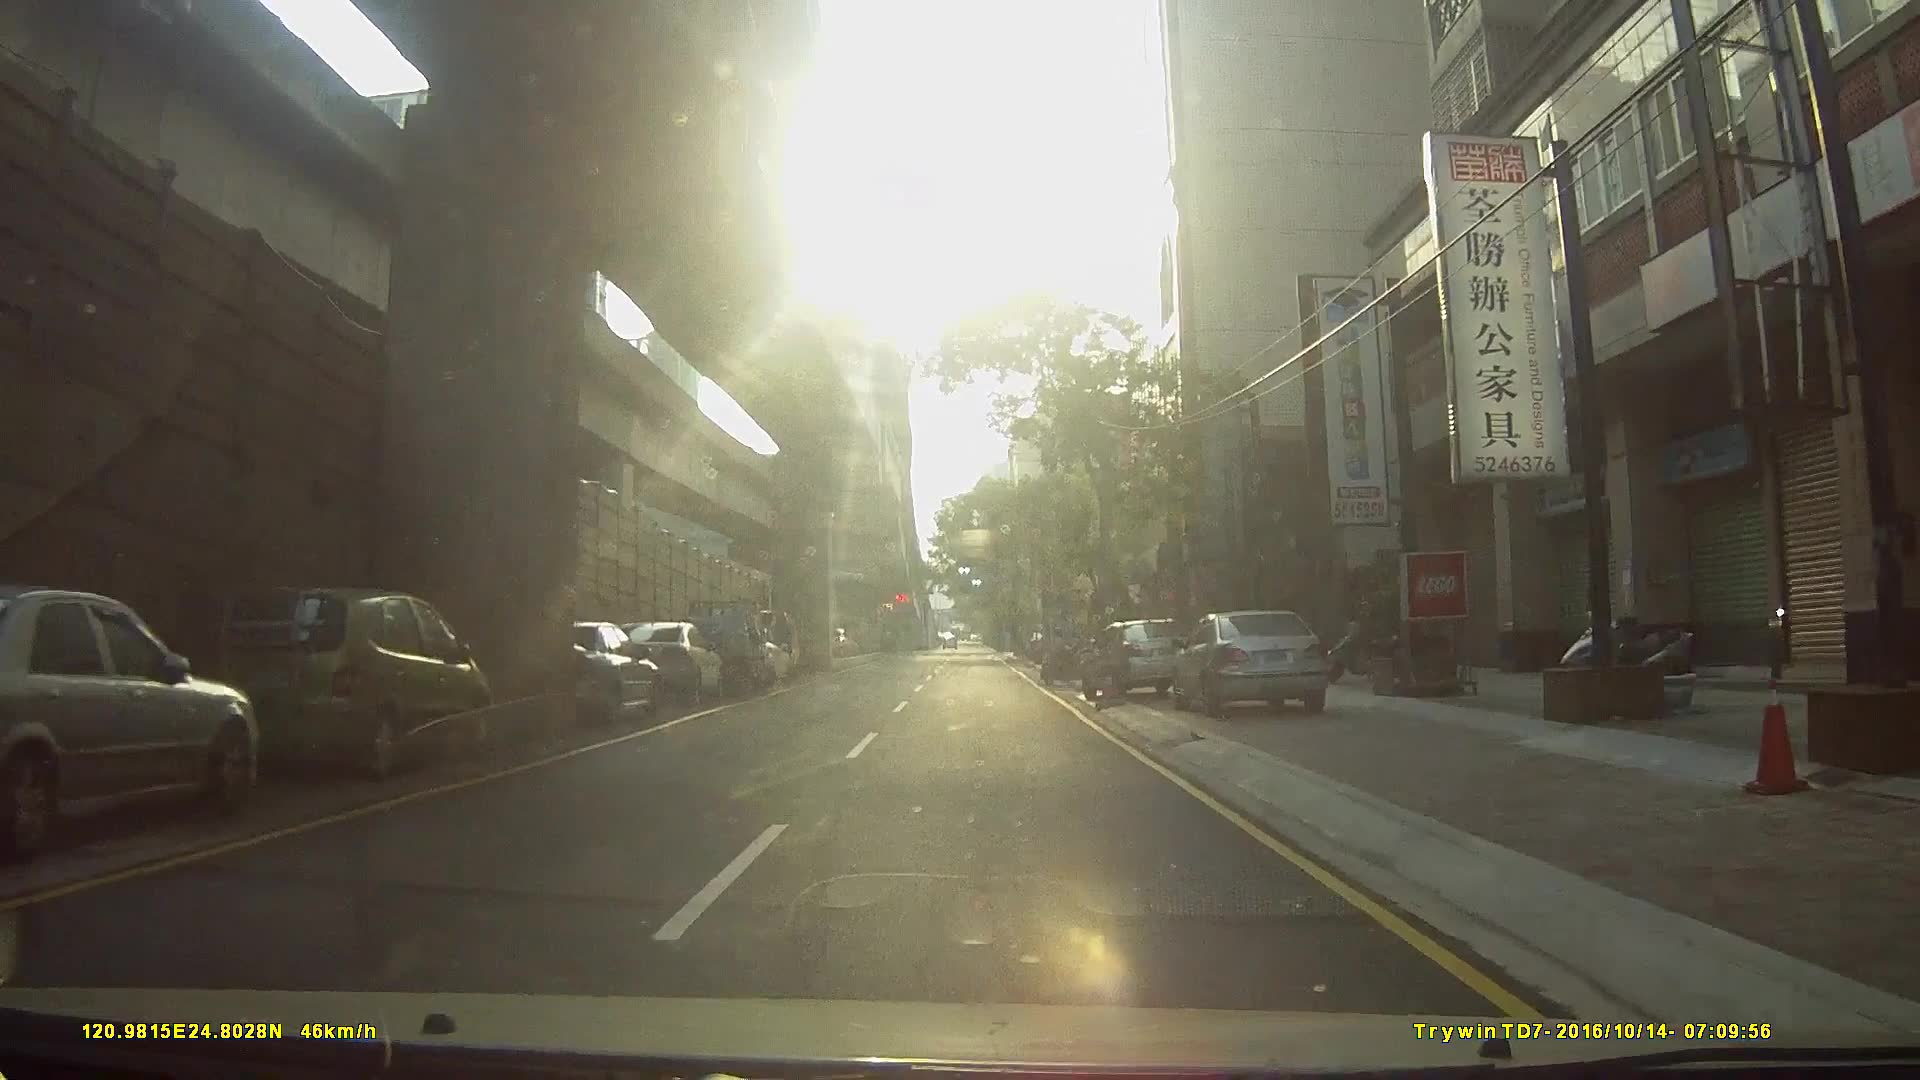rider: (1039, 626, 1088, 685)
vehicle: (1, 587, 258, 847), (175, 584, 487, 790), (1170, 607, 1337, 719), (515, 618, 659, 736), (670, 597, 769, 697), (1079, 617, 1192, 701), (608, 620, 724, 701)
